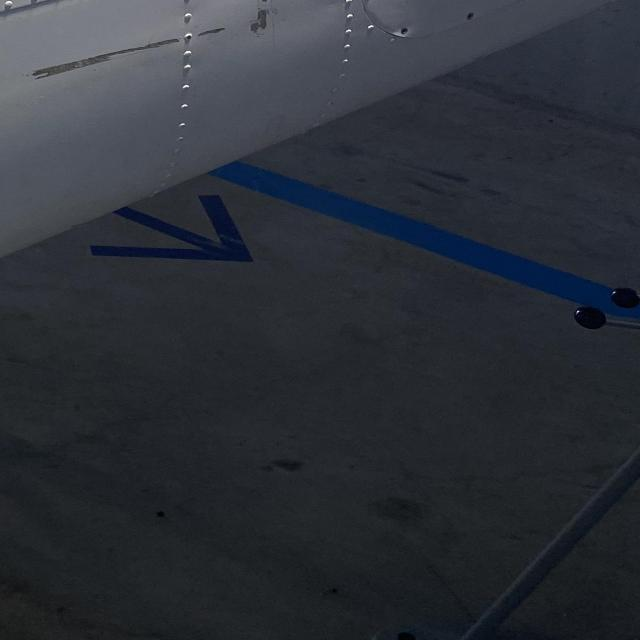Missing-head: (466, 13, 475, 20)
